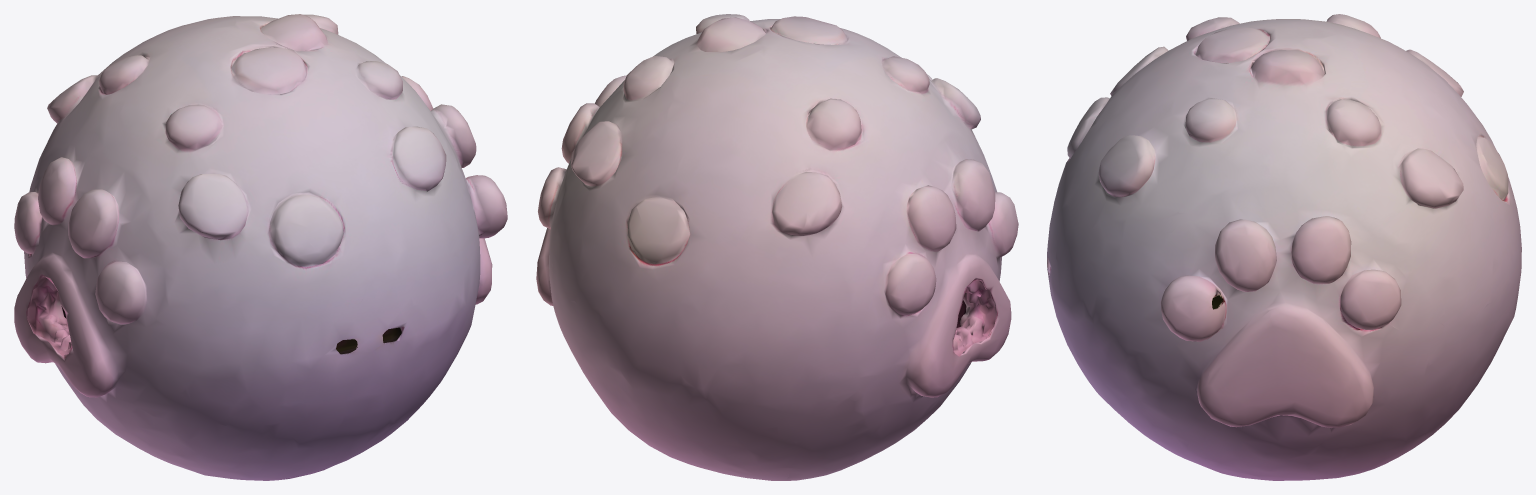
Rendered from ball_v2_h3.glb.
3 views of the same model, side by side, from view 1: azimuth 30°, elevation 25°; view 2: azimuth 150°, elevation 25°; view 3: azimuth 270°, elevation 25° (orthographic).
Parts seen in each view (by area): view 1: tripo_node_5cfeabd2-0f87-4fe0-8f05-ea8bcee52d63; view 2: tripo_node_5cfeabd2-0f87-4fe0-8f05-ea8bcee52d63; view 3: tripo_node_5cfeabd2-0f87-4fe0-8f05-ea8bcee52d63.
Boxes of the visible parts, <box> form: tripo_node_5cfeabd2-0f87-4fe0-8f05-ea8bcee52d63: <box>14,14,507,480</box>; tripo_node_5cfeabd2-0f87-4fe0-8f05-ea8bcee52d63: <box>536,14,1018,480</box>; tripo_node_5cfeabd2-0f87-4fe0-8f05-ea8bcee52d63: <box>1047,14,1521,480</box>.
Size of the model in its own units: 0.9911 by 1 by 0.9945.
1 material, 1 textured.
